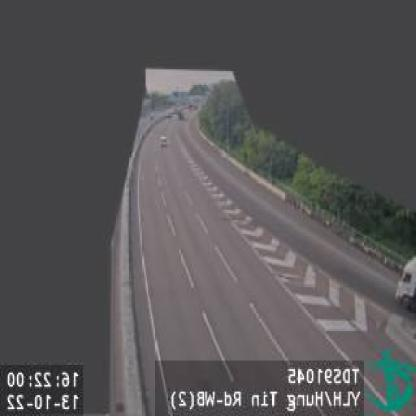Car: (158, 135, 168, 150)
